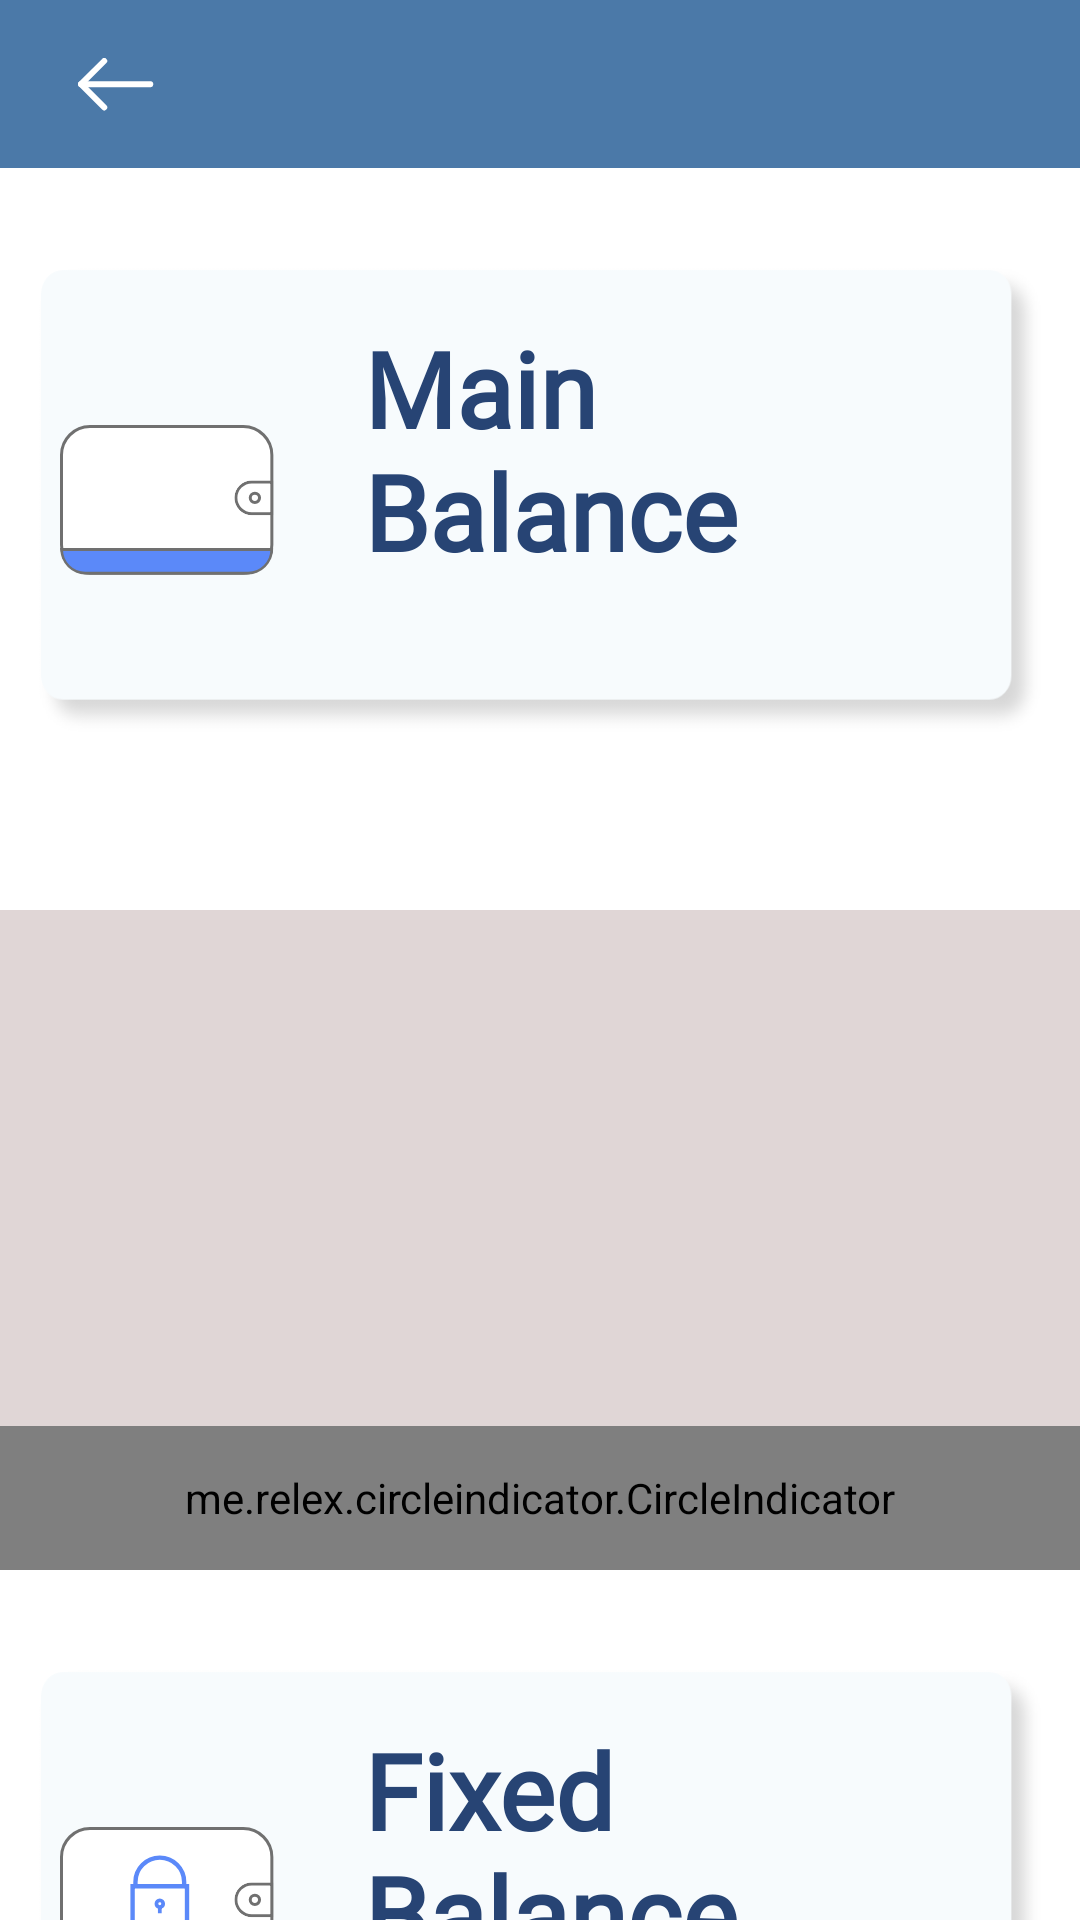

Point at icon controls on the screen. Image size 1080 x 1920, points as (x,y).
back: (116,84)
